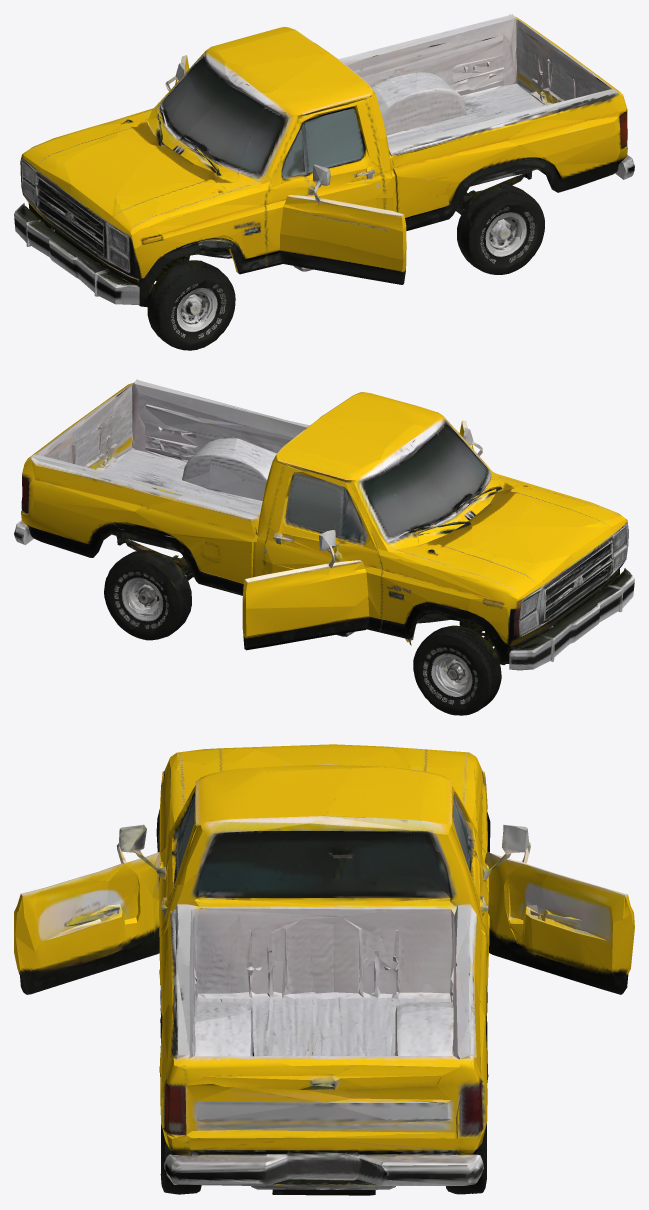
File: camioneta-higgsfield.glb
The picture shows the model from 3 angles, top to bottom: view 1: azimuth 30°, elevation 25°; view 2: azimuth 150°, elevation 25°; view 3: azimuth 270°, elevation 25°; orthographic projection. The views are drawn at different scales.
Parts seen in each view (by area): view 1: Mesh_0; view 2: Mesh_0; view 3: Mesh_0.
Boxes of the visible parts, <box> form: Mesh_0: <box>14,14,634,350</box>; Mesh_0: <box>14,379,634,715</box>; Mesh_0: <box>14,744,634,1195</box>.
Bounding box in the file's own units: 1.9 × 0.73 × 1.41.
Materials: 1 (1 with a texture image).
